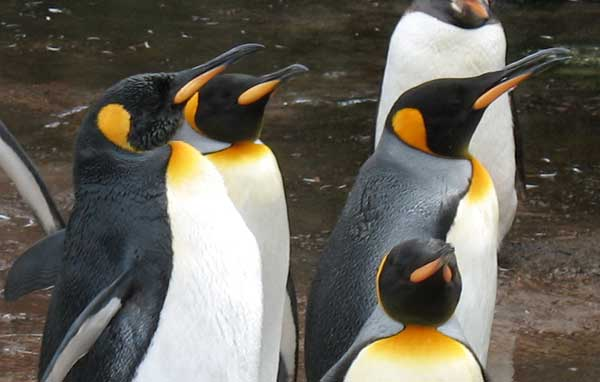penguin: (49, 42, 265, 382)
